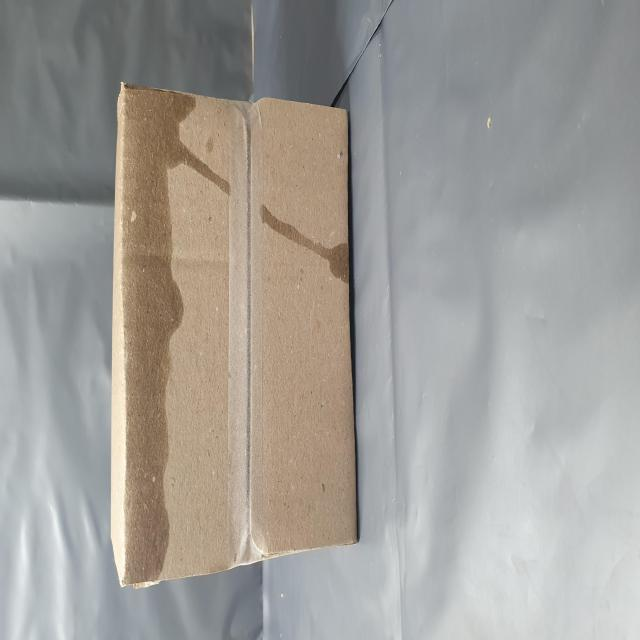wet: (32, 189, 317, 387)
